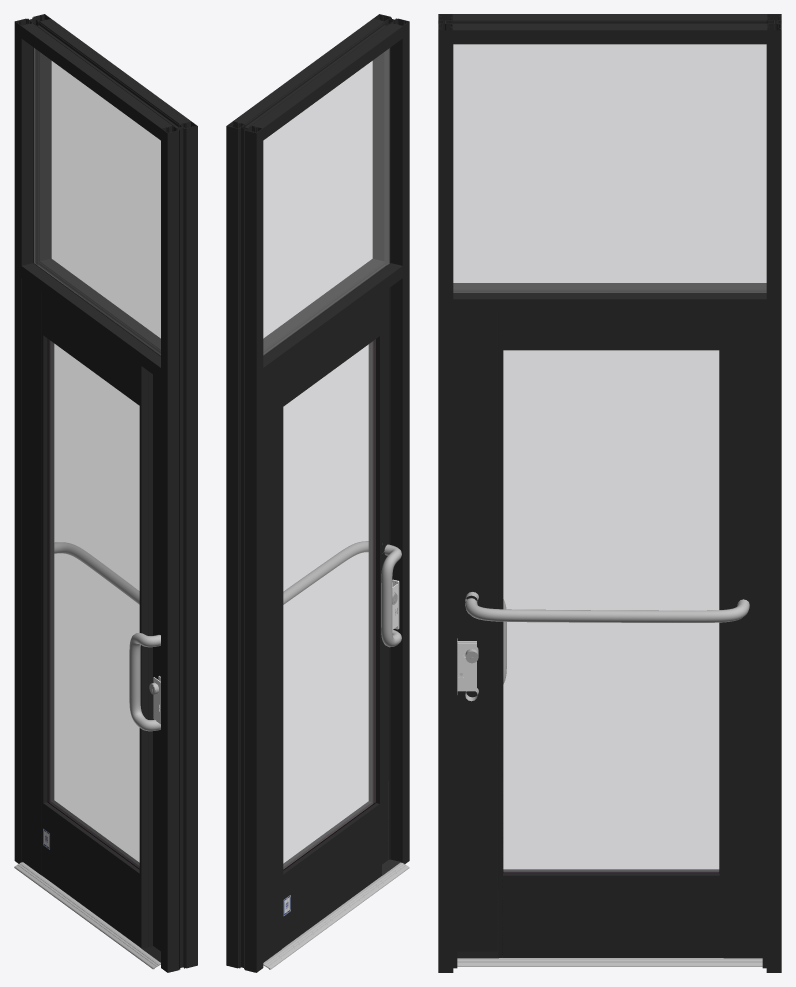
3 renders of one model, left to right at view 1: azimuth 30°, elevation 25°; view 2: azimuth 150°, elevation 25°; view 3: azimuth 270°, elevation 25°, orthographic. The views are drawn at different scales.
Parts seen in each view (by area): view 1: D500.016, D500.017, PROFILE_curve_.018, D500.001, PROFILE_curve_.023, PROFILE_curve_.019, D500.009, D500.011, D500.012, PROFILE_curve_.001, PROFILE_curve_.014, PROFILE_curve_.002 (+6 smaller); view 2: D500.016, D500.017, PROFILE_curve_.022, D500.009, PROFILE_curve_.019, PROFILE_curve_.023, D500.001, D500.011, D500.012, PROFILE_curve_.001, PROFILE_curve_.014, PROFILE_curve_.002 (+7 smaller); view 3: D500.016, D500.017, D500.009, D500.001, D500.011, PROFILE_curve_.023, PROFILE_curve_.019, D500.012, PROFILE_curve_.008, PROFILE_curve_.002, PROFILE_curve_.001, PROFILE_curve_.014 (+5 smaller).
Part boxes in pixels (x1,y1,x2,y2): D500.016: (47,338,139,868); D500.017: (34,48,160,354); PROFILE_curve_.018: (170,126,194,971); D500.001: (22,279,54,876); PROFILE_curve_.023: (14,14,51,863); PROFILE_curve_.019: (161,121,197,972); D500.009: (139,365,160,962); D500.011: (43,800,139,946); D500.012: (43,294,139,405); PROFILE_curve_.001: (25,19,187,127); PROFILE_curve_.014: (25,259,160,364); PROFILE_curve_.002: (21,19,190,140); D500.016: (283,339,375,868); D500.017: (263,48,389,354); PROFILE_curve_.022: (229,126,253,971); D500.009: (368,279,401,876); PROFILE_curve_.019: (372,14,409,864); PROFILE_curve_.023: (226,121,263,972); D500.001: (263,366,283,962); D500.011: (283,801,379,947); D500.012: (283,295,379,406); PROFILE_curve_.001: (236,20,399,127); PROFILE_curve_.014: (263,259,399,364); PROFILE_curve_.002: (233,19,402,140); D500.016: (503,350,718,872); D500.017: (453,44,766,292); D500.009: (457,313,502,958); D500.001: (719,313,762,958); D500.011: (503,869,719,957); PROFILE_curve_.023: (766,14,781,972); PROFILE_curve_.019: (438,14,453,972); D500.012: (503,313,719,350); PROFILE_curve_.008: (453,283,766,313); PROFILE_curve_.002: (453,14,766,44); PROFILE_curve_.001: (453,15,766,28); PROFILE_curve_.014: (453,284,766,297).
Size of the model in its own units: 0.1922 by 3.05 by 1.01.
Materials: 9 (1 with a texture image).
